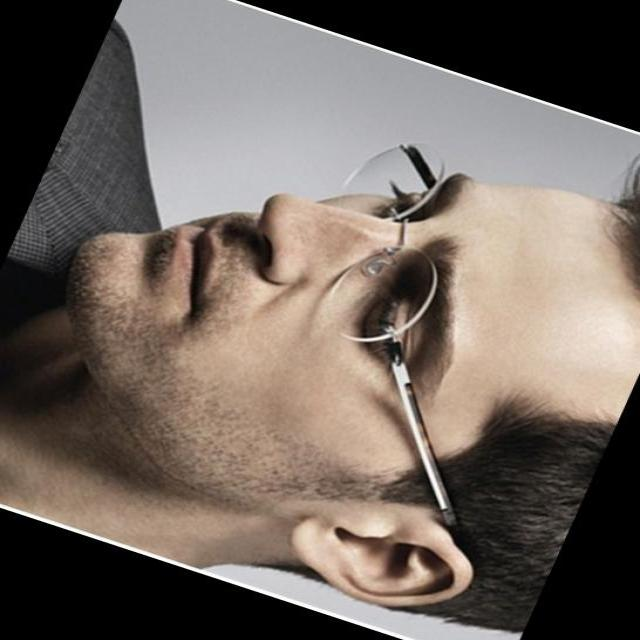glasses: (278, 126, 502, 374)
